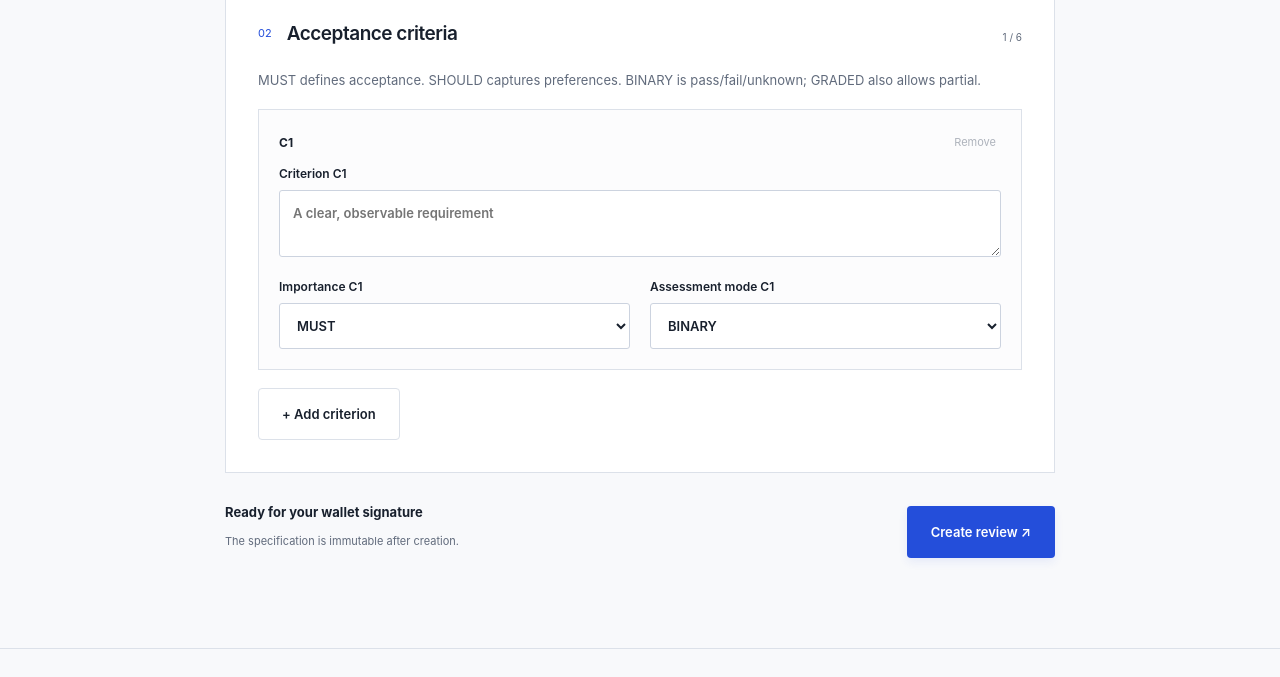
Test: validates required fields with useful messages
The image size is (1280, 677).
(page scrolled)
Click the button "Create review ↗". click: x=981, y=532
box: [907,506,1055,558]
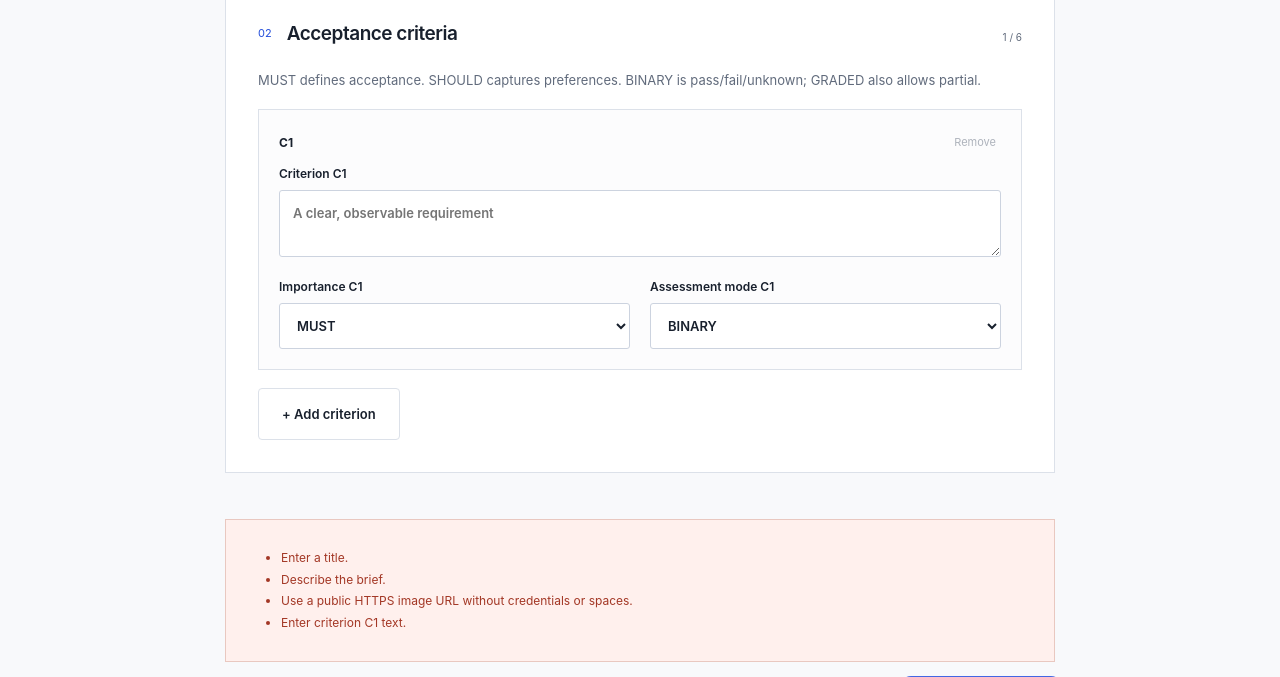
Expected: the message shows "Enter a title.", [281,550,348,565]
Expected: the message shows "Describe the brief.", [281,572,386,587]
Expected: the message shows "HTTPS", [281,593,633,608]
